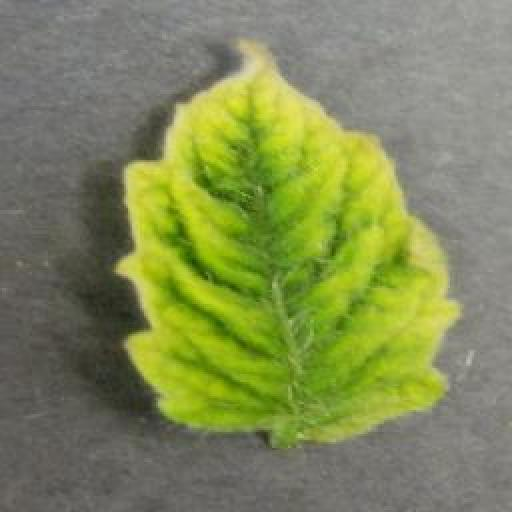disease_tomato: (115, 39, 463, 448)
